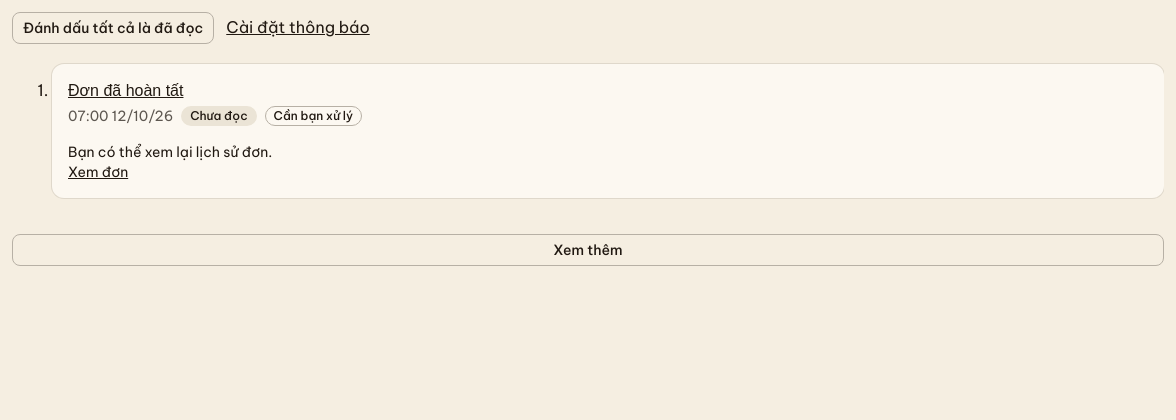
Test: inbox loads the next page and preserves existing items on a read failure
The width and height of the screenshot is (1176, 420).
Step 1. Click the button "Xem thêm" → click(588, 250), box left=12, top=234, right=1164, bottom=266
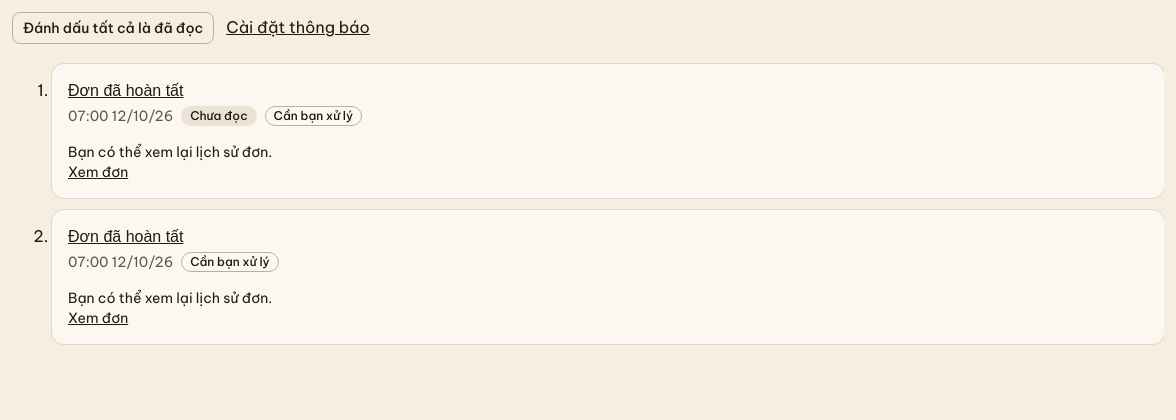
Expected: the number of list items is 2, left=52, top=64, right=1164, bottom=198; left=52, top=210, right=1164, bottom=344
Step 2. Click the button "Đánh dấu tất cả là đã đọc" → click(113, 28), box left=12, top=12, right=214, bottom=44
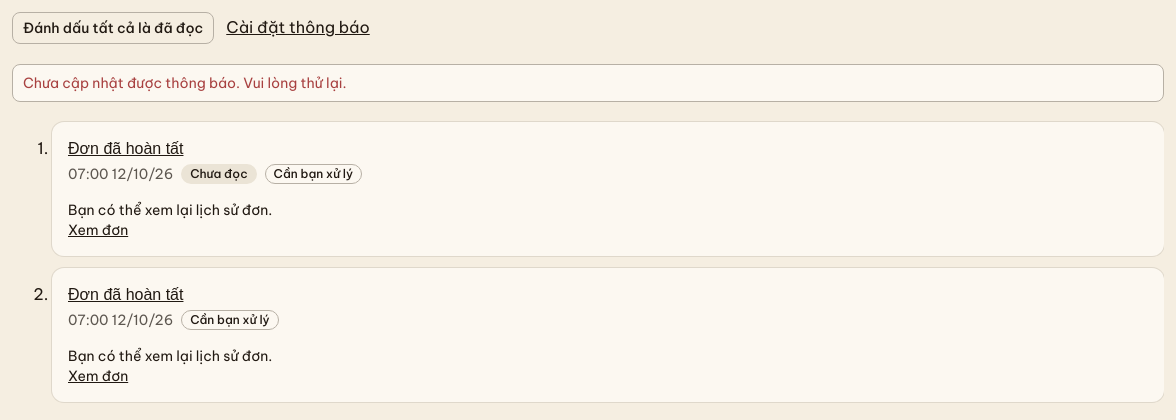
Expected: the 1st list item is shown, left=52, top=122, right=1164, bottom=256
Expected: the message "Chưa cập nhật được thông báo. Vui lòng thử lại." is shown, left=12, top=64, right=1164, bottom=102
